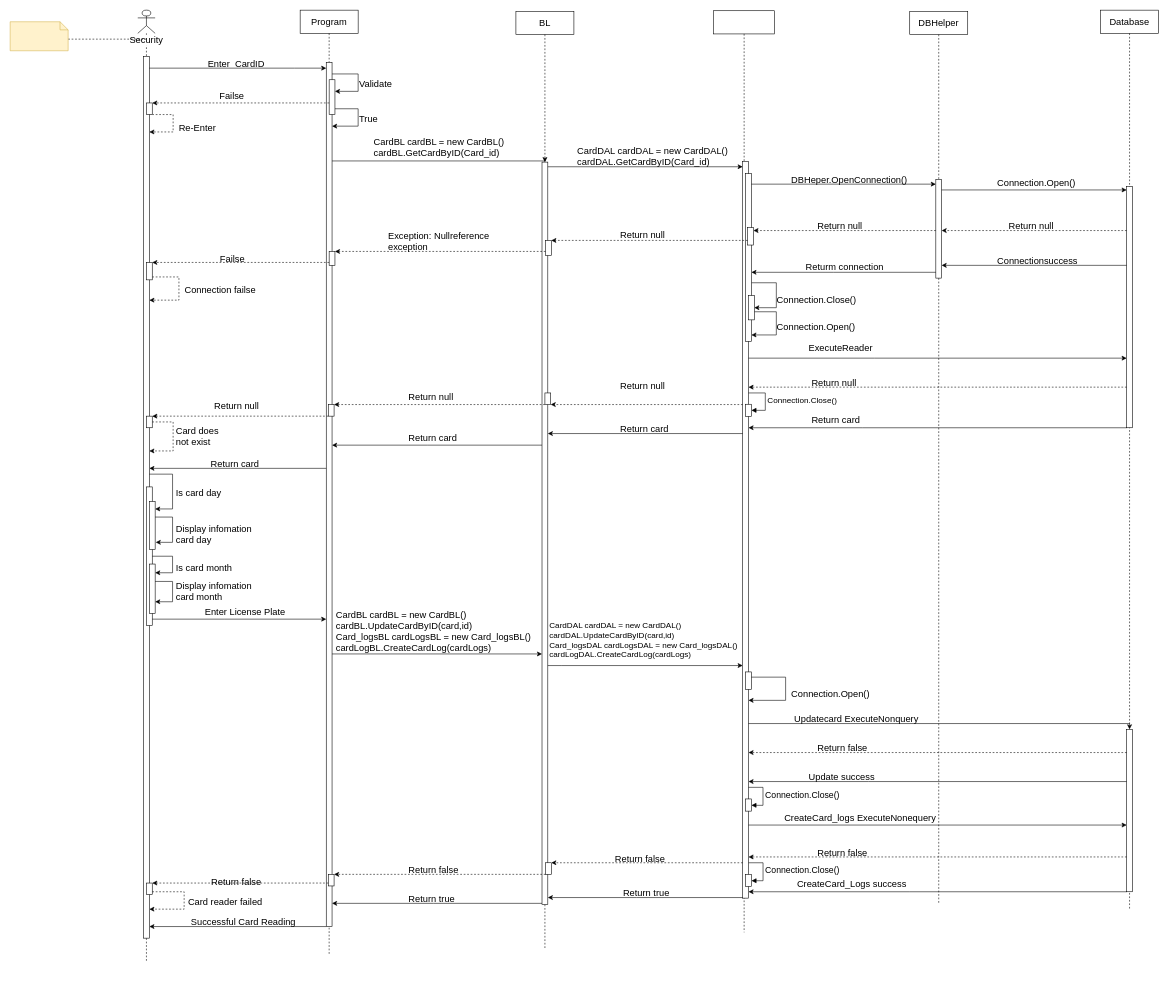
This 1169x990 diagram has some shape labels left out. The centre of each missing label's shape, as x and y in pixels:
DAL: point 744,471
Security login: point 39,36
